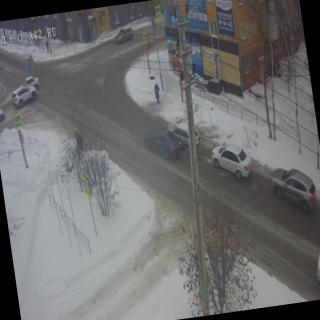small-vehicle: (270, 156, 320, 218), (206, 136, 253, 184), (142, 123, 183, 166), (164, 112, 202, 156), (7, 83, 39, 109), (311, 243, 320, 298), (17, 73, 42, 92), (0, 103, 7, 125)
